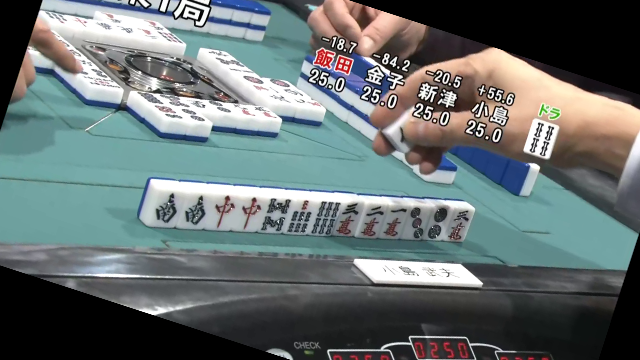Tehai: (133, 182, 473, 246)
